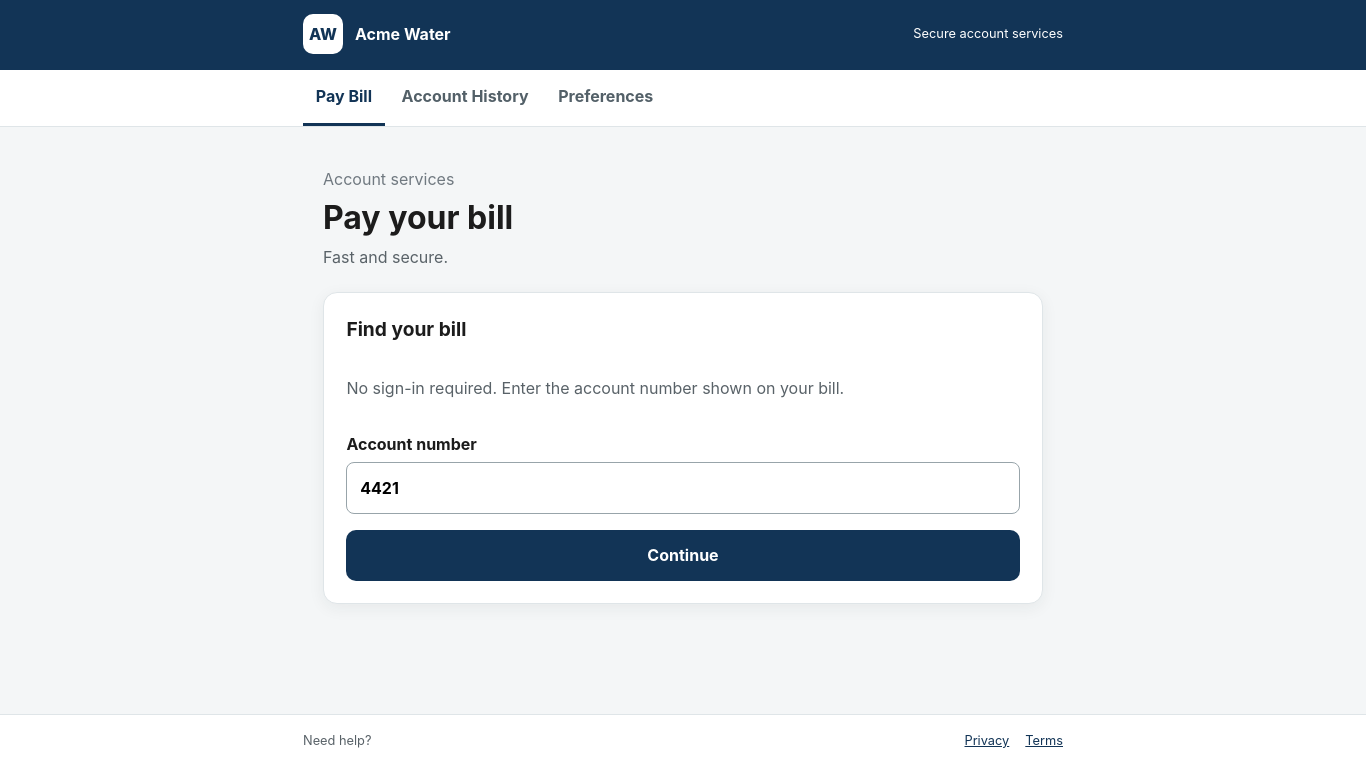
Test: payment assistant surface › keeps the manual flow usable when the assistant fails
This screenshot has width=1366, height=764.
Click the button with test id "lookup-submit": (683, 555) 346,530 -> 1020,581
(page scrolled)
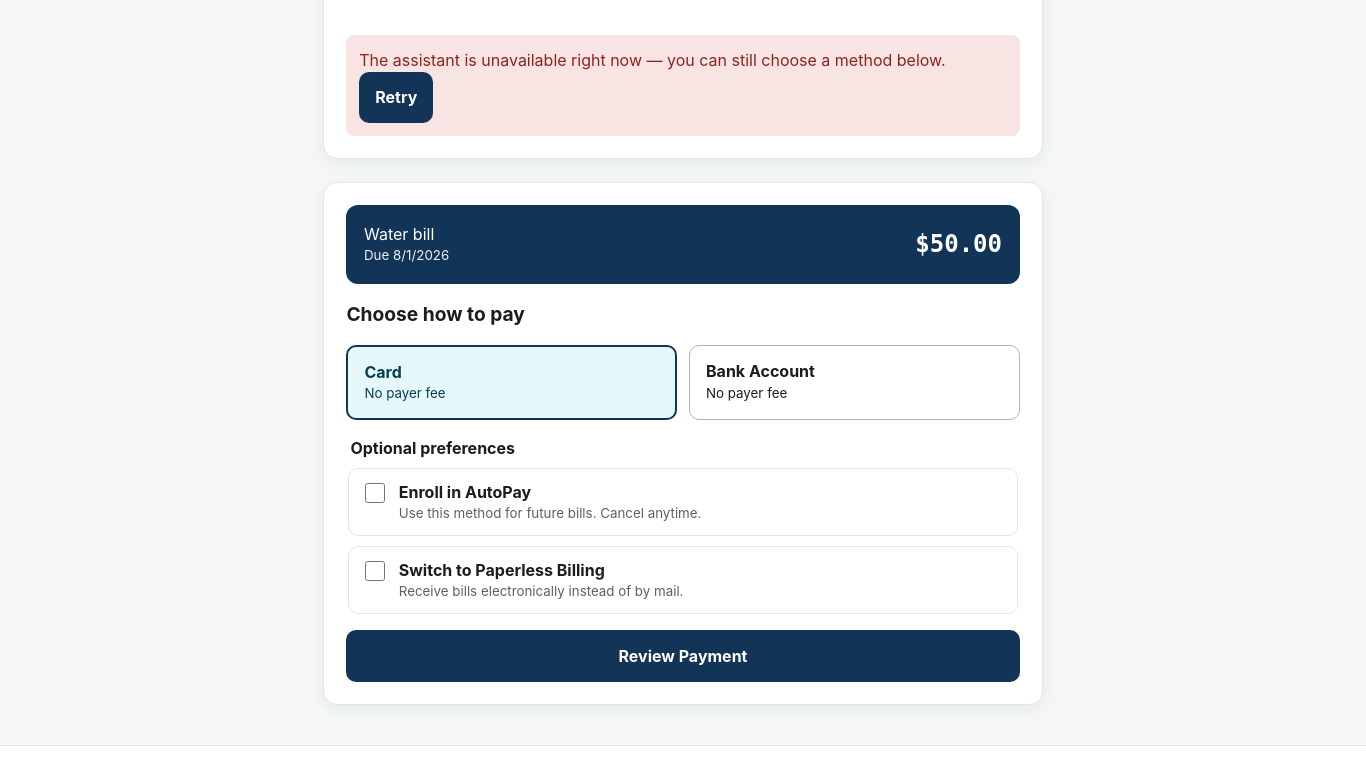
expect the button with test id "method-ach" is shown: met, box 689,345 -> 1020,420
